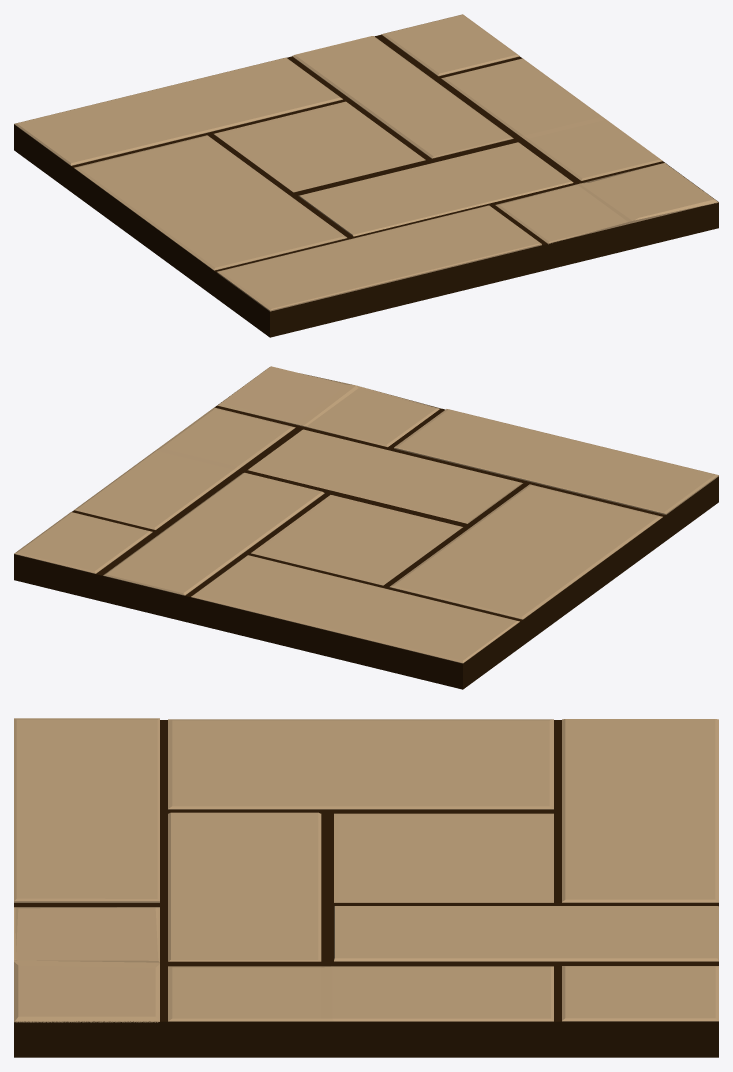
The model's file is suelo2.fbx.
The picture shows the model from 3 angles, top to bottom: view 1: azimuth 30°, elevation 25°; view 2: azimuth 150°, elevation 25°; view 3: azimuth 270°, elevation 25°; orthographic projection. The views are drawn at different scales.
Visible parts, largest first — view 1: Cube.002; view 2: Cube.002; view 3: Cube.002.
Part boxes in pixels (x1,y1,x2,y2): Cube.002: [14, 14, 718, 337]; Cube.002: [14, 366, 718, 689]; Cube.002: [14, 718, 718, 1057].
Bounding box in the file's own units: 5835 × 352 × 5763.
